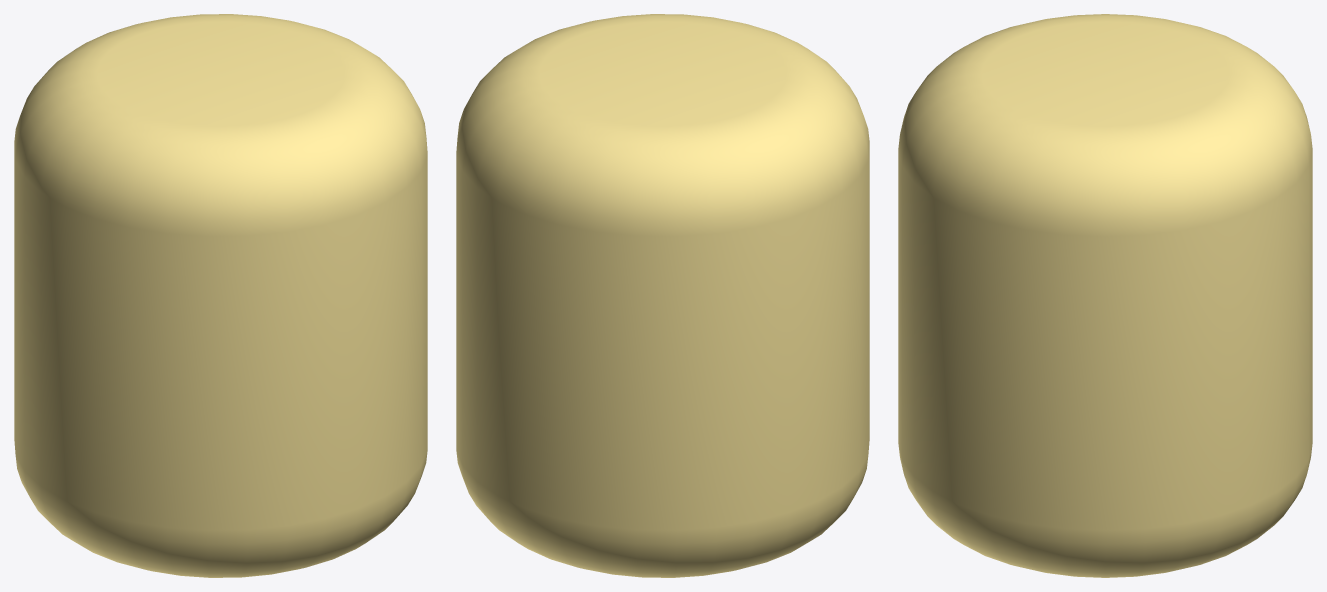
The model's file is pill_capsule.glb.
The picture shows the model from 3 angles, left to right: view 1: azimuth 30°, elevation 25°; view 2: azimuth 150°, elevation 25°; view 3: azimuth 270°, elevation 25°; orthographic projection.
Visible parts, largest first — view 1: Cylinder; view 2: Cylinder; view 3: Cylinder.
Part boxes in pixels (bbox=[...]): Cylinder: bbox=[14, 14, 427, 577]; Cylinder: bbox=[456, 14, 869, 577]; Cylinder: bbox=[898, 14, 1312, 577].
Size of the model in its own units: 1.1 by 1.3 by 1.1.
